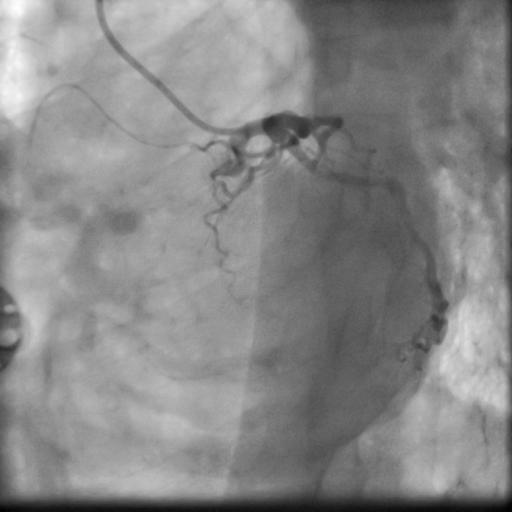Stenosis: (399, 213, 422, 248)
